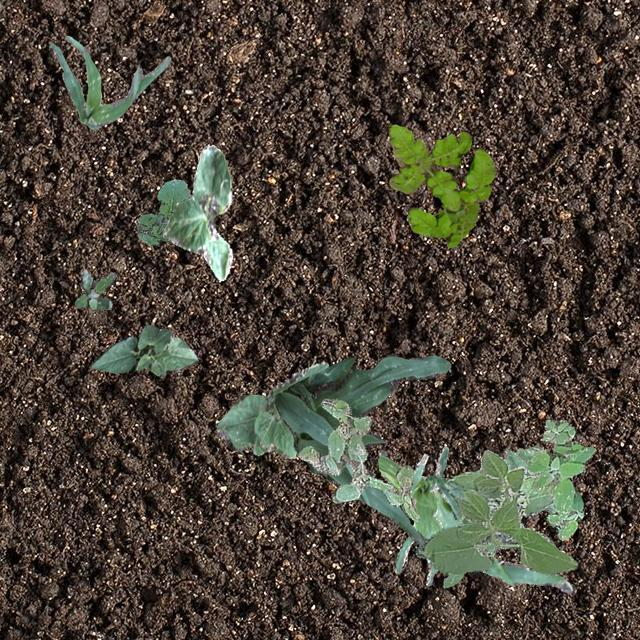crop: (272, 352, 450, 544), (414, 448, 576, 574), (428, 477, 572, 592), (49, 34, 170, 128), (215, 360, 327, 458), (160, 143, 232, 280), (394, 446, 459, 586), (90, 324, 198, 376), (502, 448, 554, 512), (378, 450, 402, 490)
weed: (298, 398, 420, 522), (388, 124, 494, 246), (514, 418, 594, 540), (136, 180, 190, 244), (442, 542, 492, 588), (74, 268, 114, 308)
